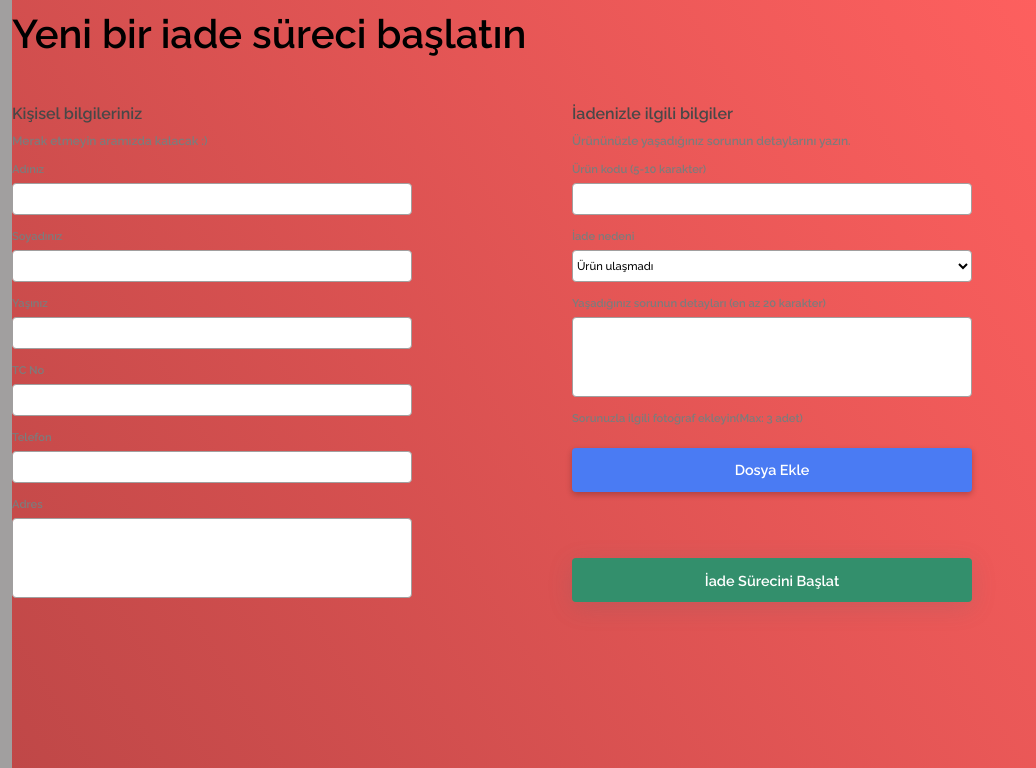
Test case: New ticket page form tests › if shows valid message if input value is valid
Step 1. Type "My Name" into the field labelled "Adınız" → (212, 199), box [12,183,412,215]
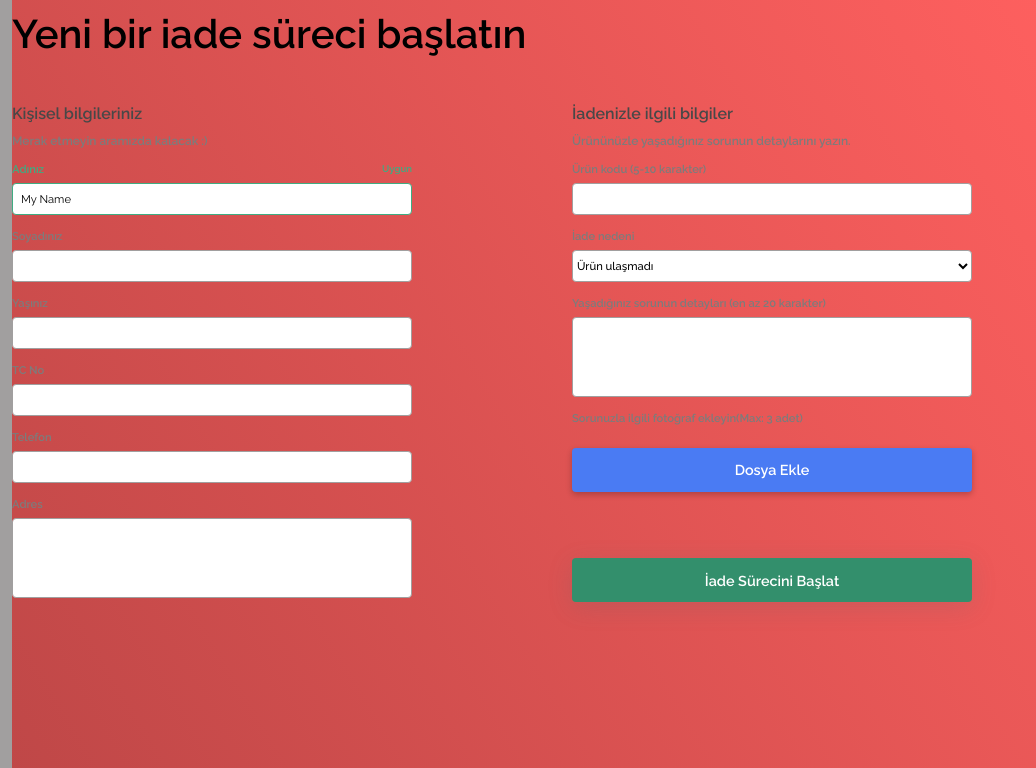
Expected: the message with test id "test-stattext-ticketFirstName" reads "Uygun", [382,163,412,174]
